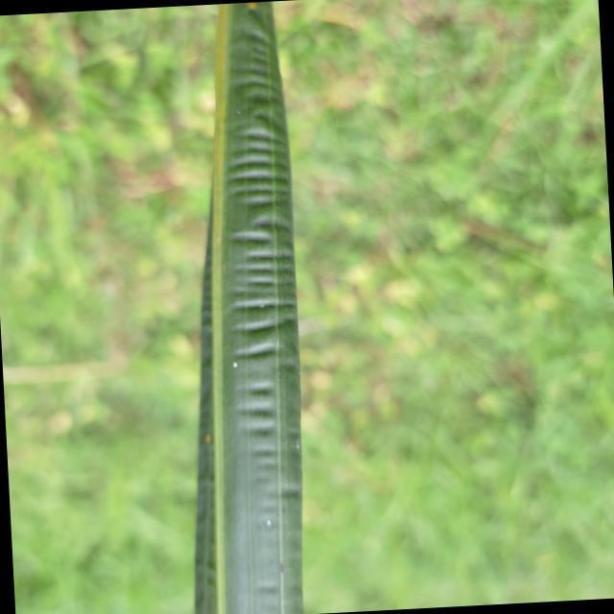Boron: (195, 0, 302, 614)
